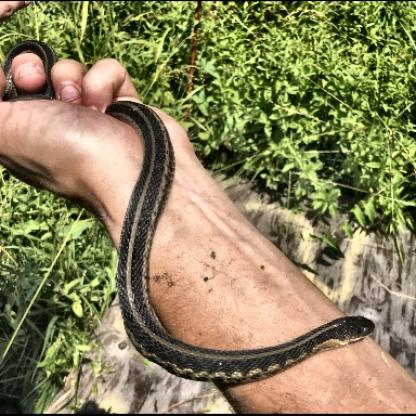Snake: (107, 98, 375, 389)
